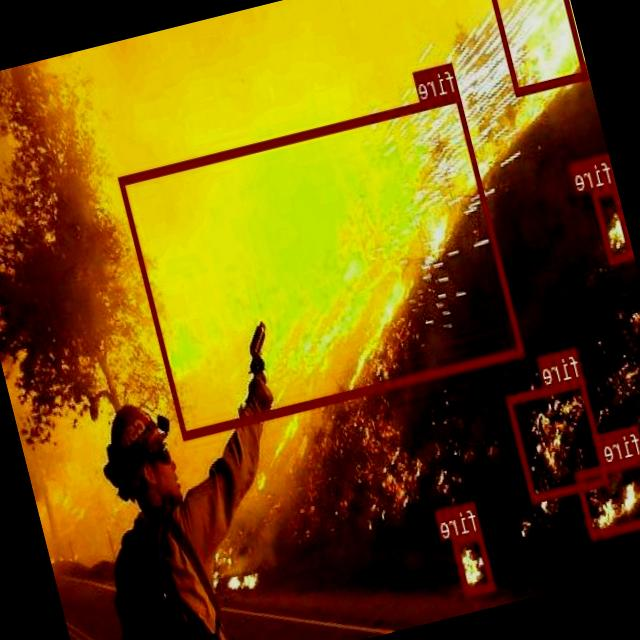fire: (118, 91, 525, 438), (507, 376, 610, 502), (485, 0, 588, 93), (575, 454, 640, 537), (591, 182, 634, 263), (452, 528, 496, 594)
